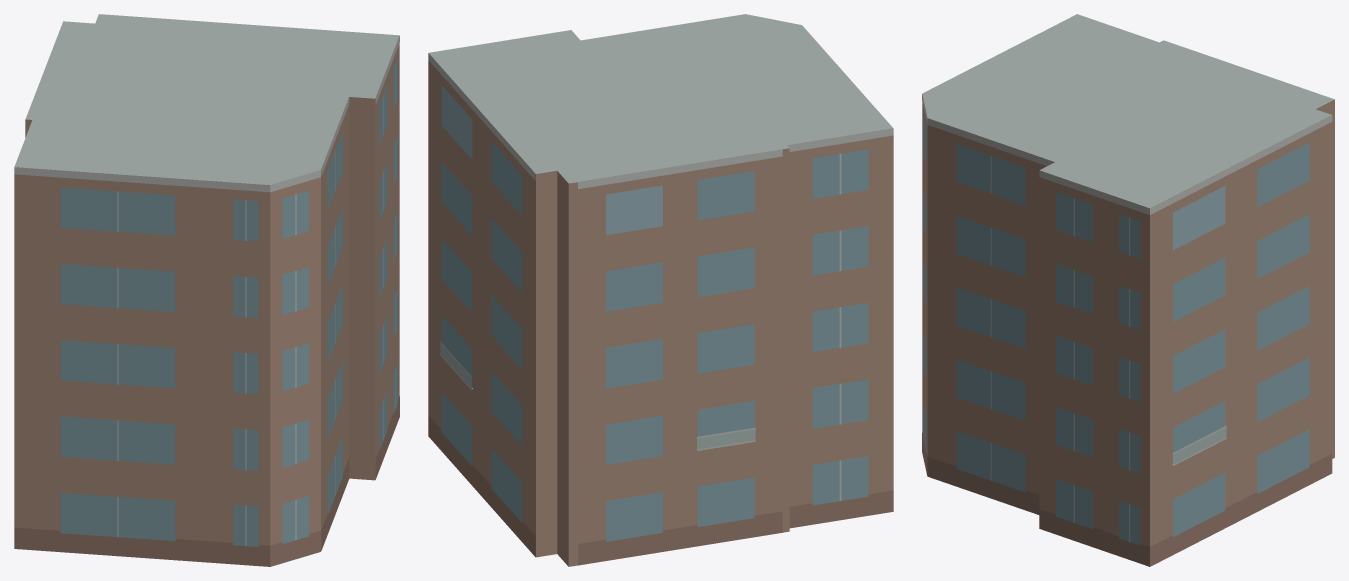
The model's file is survey-upis-32726430.glb.
3 renders of one model, left to right at view 1: azimuth 30°, elevation 25°; view 2: azimuth 150°, elevation 25°; view 3: azimuth 270°, elevation 25°, orthographic. The views are drawn at different scales.
Parts seen in each view (by area): view 1: survey-upis-32726430.tmp; view 2: survey-upis-32726430.tmp; view 3: survey-upis-32726430.tmp.
Part boxes in pixels (box(x1,y1,x2,y2)): survey-upis-32726430.tmp: box(14, 14, 399, 566); survey-upis-32726430.tmp: box(428, 14, 893, 566); survey-upis-32726430.tmp: box(922, 14, 1334, 566).
Bounding box in the file's own units: 15.13 × 13 × 13.57.
